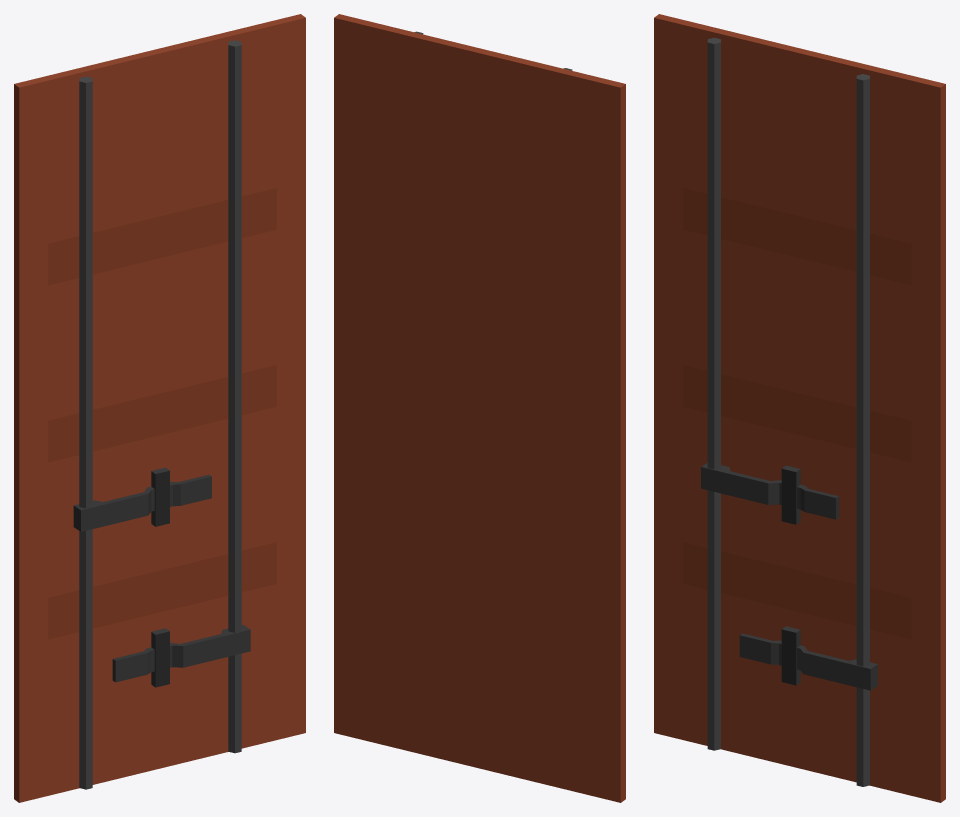
The model's file is SM_IndustrialProps_ShippingContainer_01_Door_02.fbx.
3 views of the same model, side by side, from view 1: azimuth 30°, elevation 25°; view 2: azimuth 150°, elevation 25°; view 3: azimuth 330°, elevation 25° (orthographic).
Visible parts, largest first — view 1: SM_IndustrialProps_ShippingContainer_01_Door_02; view 2: SM_IndustrialProps_ShippingContainer_01_Door_02; view 3: SM_IndustrialProps_ShippingContainer_01_Door_02.
Part boxes in pixels (<box>): SM_IndustrialProps_ShippingContainer_01_Door_02: <box>14,14,305,802</box>; SM_IndustrialProps_ShippingContainer_01_Door_02: <box>334,14,625,802</box>; SM_IndustrialProps_ShippingContainer_01_Door_02: <box>654,14,945,802</box>.
Bounding box in the file's own units: 1.09 × 2.6 × 0.0825.
